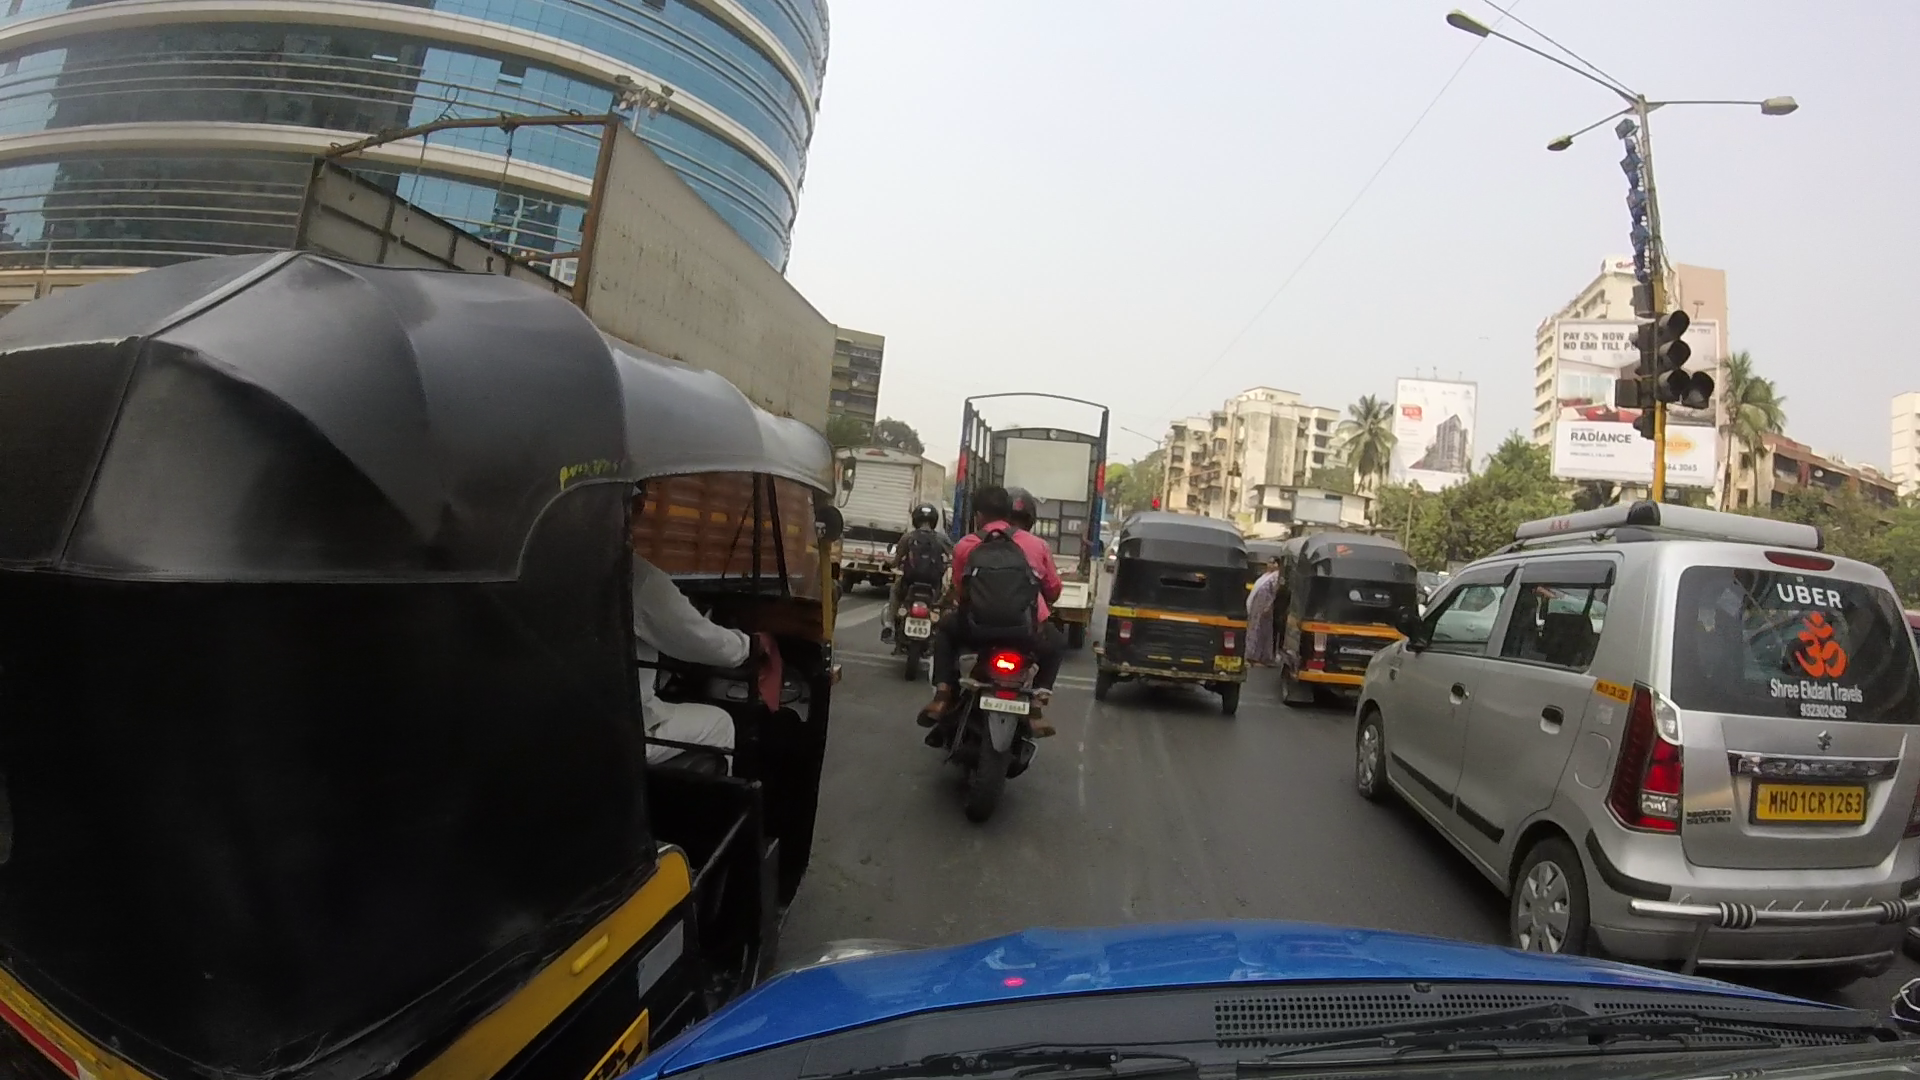bike/scooter: (930, 469, 1073, 810), (886, 460, 945, 675)
car: (1357, 537, 1912, 945)
rickshaw: (4, 240, 860, 1080), (1276, 510, 1424, 709), (1110, 510, 1247, 719)
truck: (936, 372, 1112, 601)
